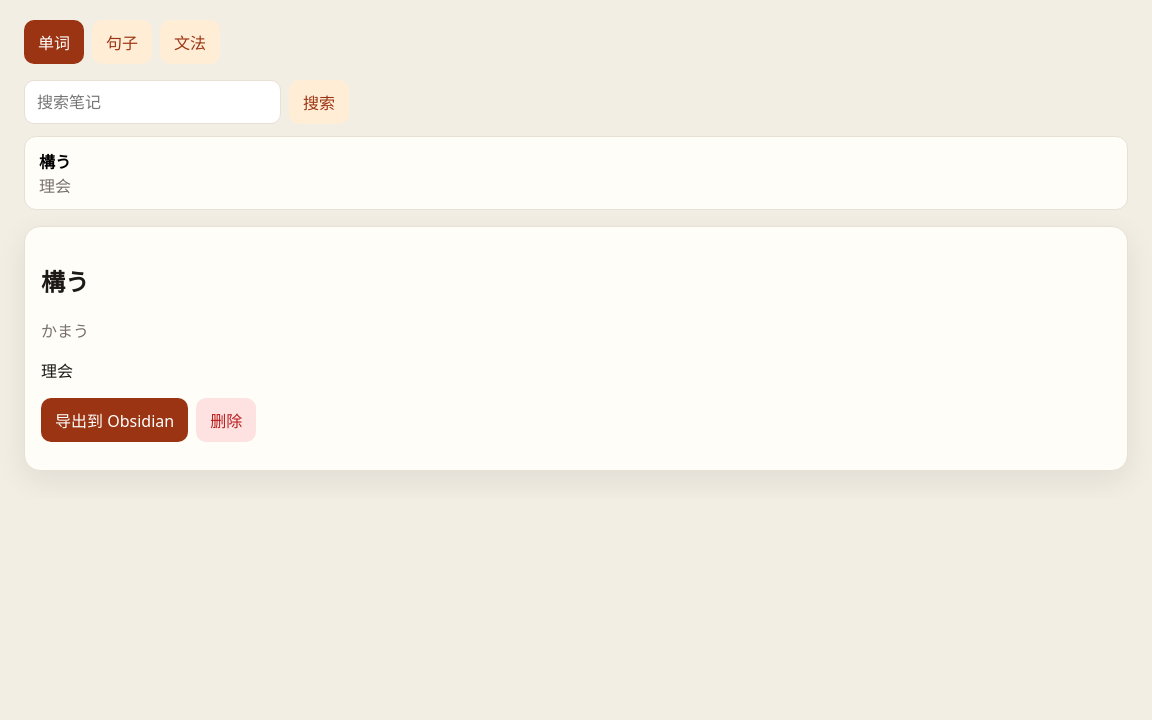
Test: notes delete messaging › keeps the note and shows an error when Obsidian deletion fails
expect the heading "構う" is shown: met, box [41,265,89,298]
Click the button "删除" at (226, 420), box [196,398,256,442]
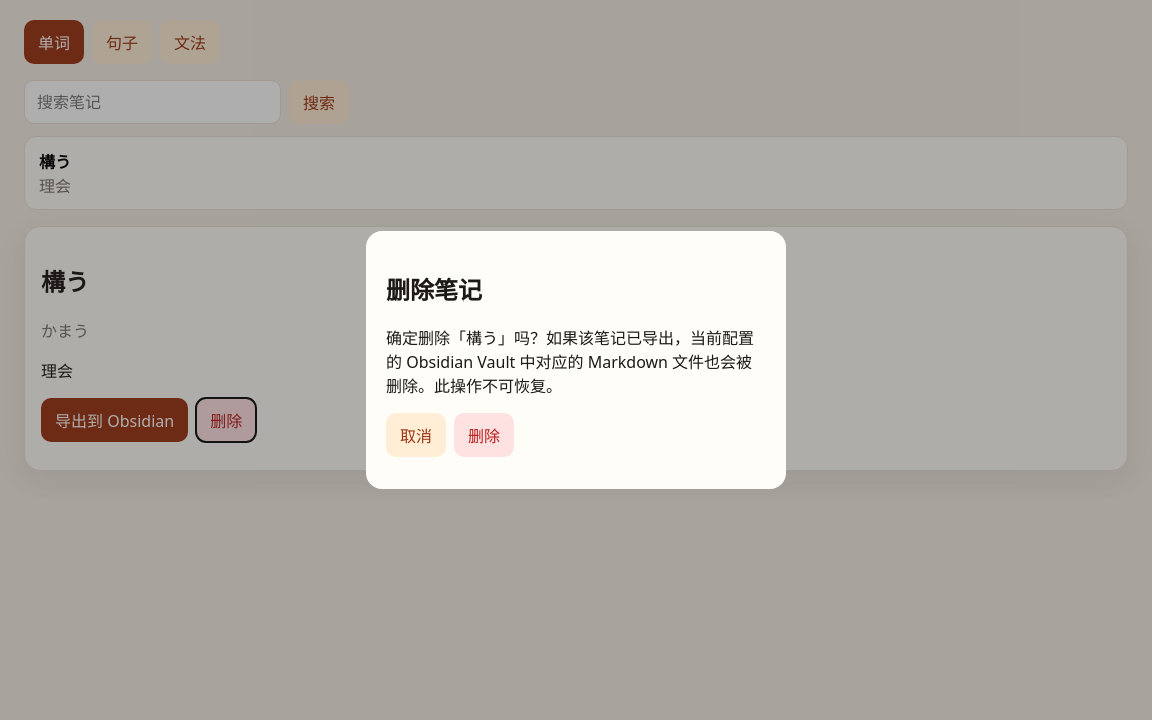
Click the button "删除" at (484, 435), box [454,413,514,457]
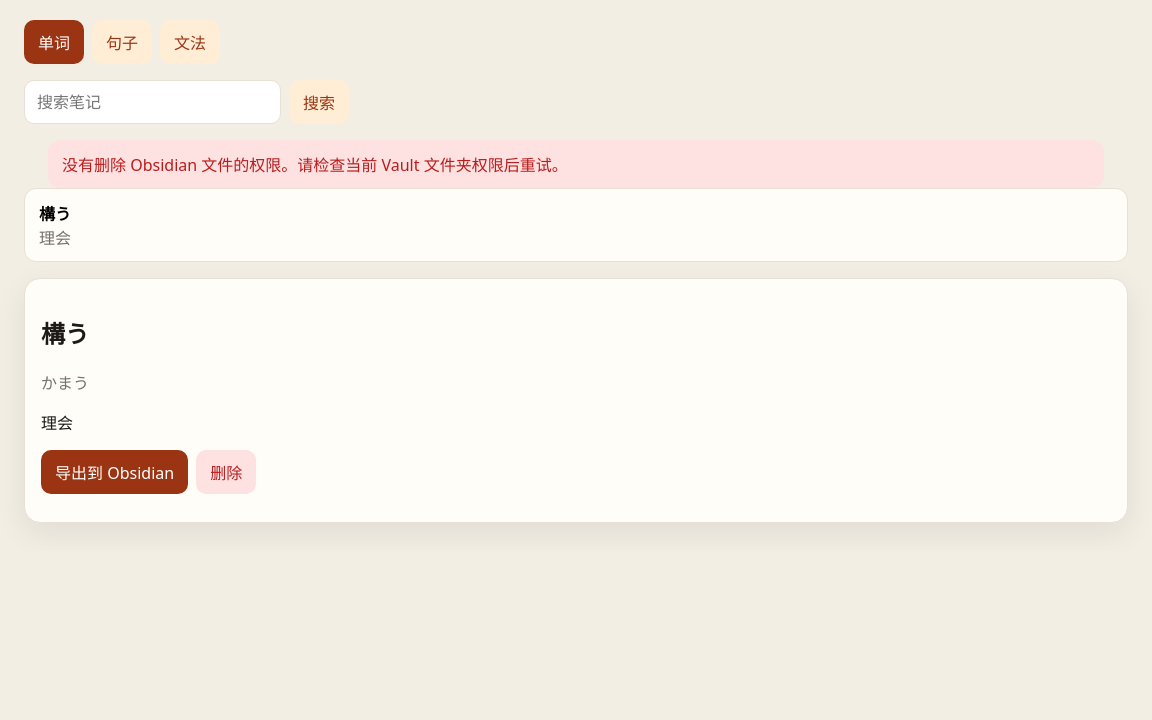
expect the heading "構う" is shown: met, box [41,317,89,350]
expect the text "没有删除 Obsidian 文件的权限。请检查当前 Vault 文件夹权限后重试。" is shown: met, box [48,140,1104,188]
